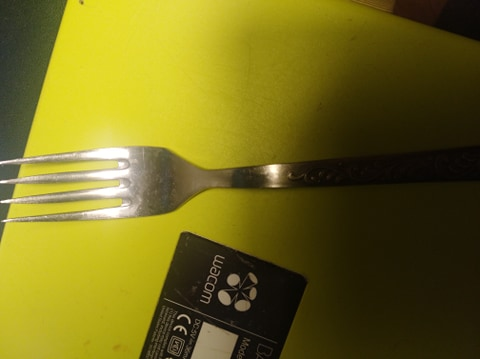Widelec: (2, 143, 209, 226)
